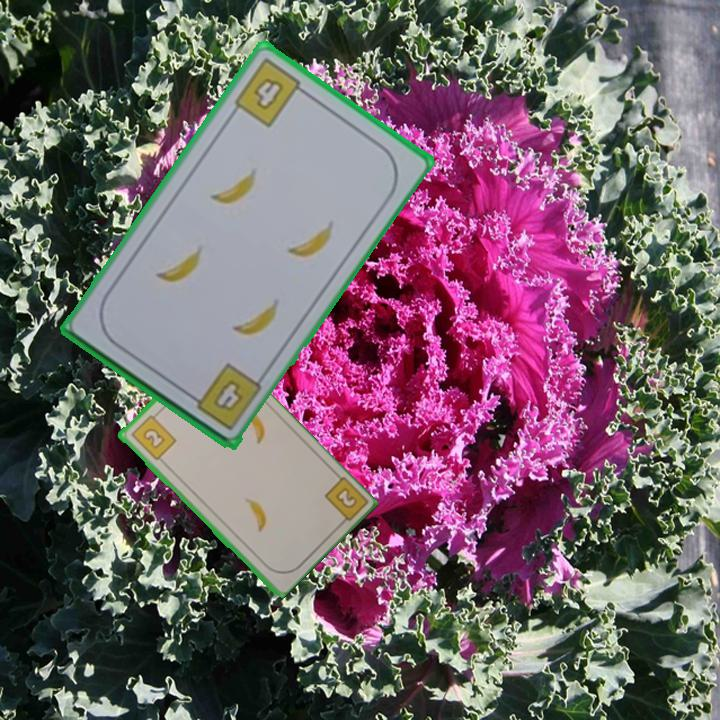2b: (127, 409, 179, 463), (320, 473, 368, 531)
4b: (230, 54, 312, 130), (213, 376, 245, 411)
